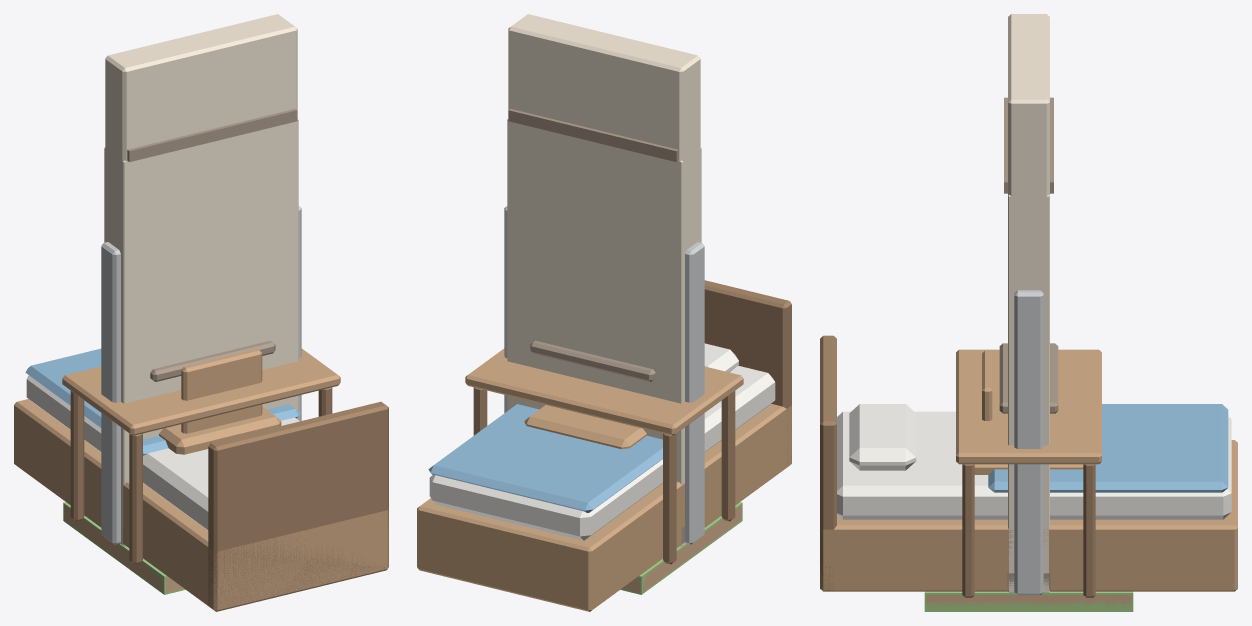
Rendered from villa_kit.glb.
The picture shows the model from 3 angles, left to right: view 1: azimuth 30°, elevation 25°; view 2: azimuth 150°, elevation 25°; view 3: azimuth 270°, elevation 25°; orthographic projection. The views are drawn at different scales.
Parts seen in each view (by area): view 1: wall_1m, bed, wall_window_1m, wall_door_1m, table, gate_1m, chair, crate, floor_1x1, grass_1x1; view 2: wall_1m, bed, table, wall_door_1m, wall_window_1m, gate_1m, crate, floor_1x1, grass_1x1; view 3: bed, table, wall_1m, wall_door_1m, gate_1m, wall_window_1m, grass_1x1, floor_1x1, chair.
Part boxes in pixels (x1,y1,x2,y2): wall_1m: (105, 14, 297, 543); bed: (14, 348, 388, 611); wall_window_1m: (105, 31, 296, 439); wall_door_1m: (104, 31, 298, 546); table: (62, 348, 340, 564); gate_1m: (101, 206, 301, 544); chair: (181, 349, 262, 433); crate: (159, 406, 281, 454); floor_1x1: (64, 503, 183, 592); grass_1x1: (63, 502, 185, 594); wall_1m: (508, 14, 700, 543); bed: (417, 280, 791, 611); table: (465, 348, 743, 564); wall_door_1m: (507, 31, 701, 546); wall_window_1m: (508, 32, 700, 484); gate_1m: (504, 206, 704, 544); crate: (524, 405, 646, 449); floor_1x1: (622, 503, 741, 592); grass_1x1: (620, 502, 742, 594); bed: (820, 335, 1237, 591); table: (956, 349, 1101, 597); wall_1m: (1007, 14, 1050, 591); wall_door_1m: (1004, 97, 1053, 592); gate_1m: (1014, 290, 1043, 595); wall_window_1m: (999, 104, 1058, 467); grass_1x1: (924, 591, 1133, 611); floor_1x1: (926, 595, 1131, 608); chair: (982, 350, 992, 420).
Size of the model in its own units: 1.2 by 2.7 by 2.
